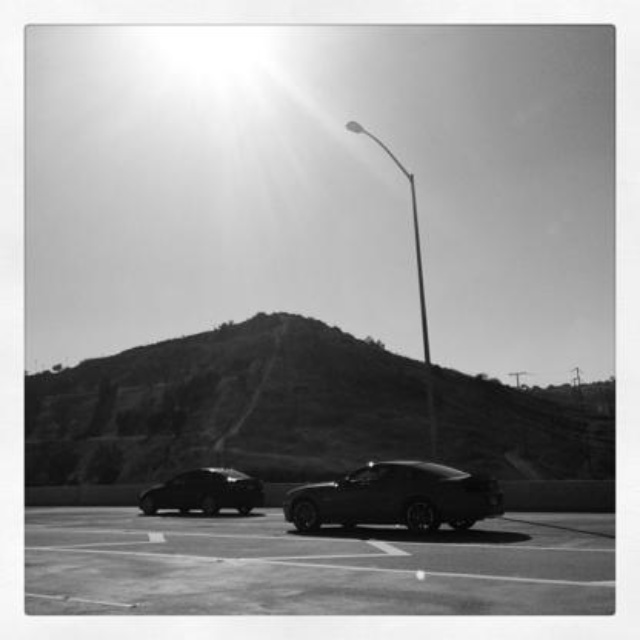Car: (285, 459, 503, 538), (137, 465, 266, 521)
